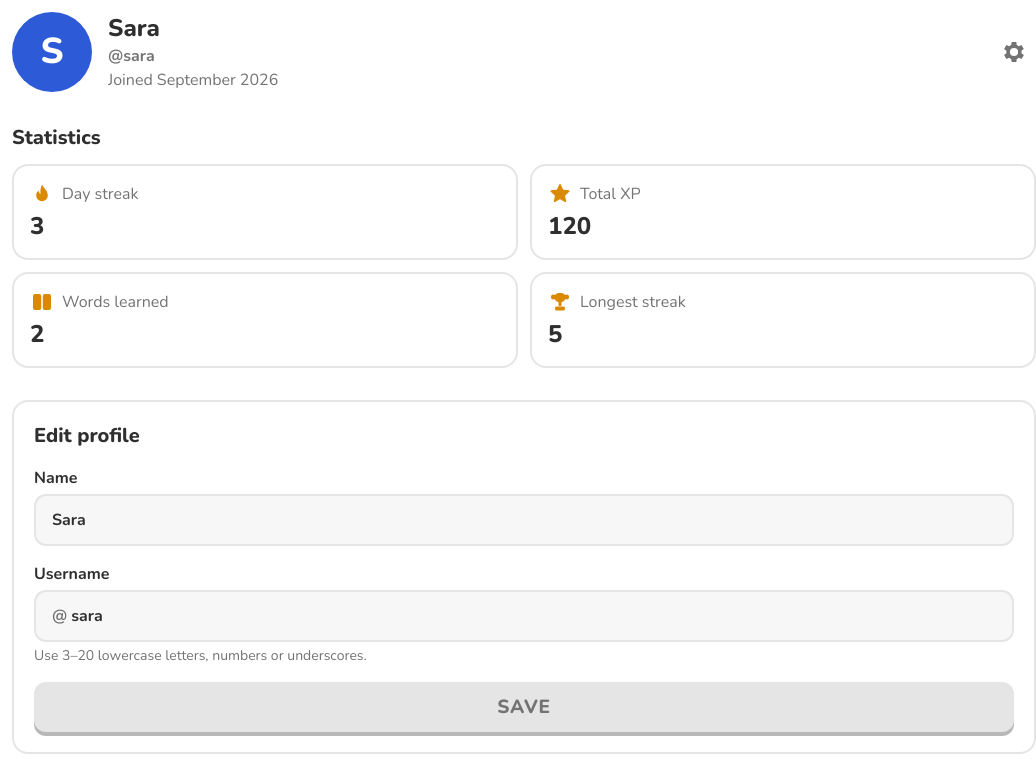
it: ProfileScreen › saves a new username and refreshes home
Step 1. Replace the text in the field labelled "Username" with "Sara_Fa" → coordinates (540, 616), box [67,592,1012,640]
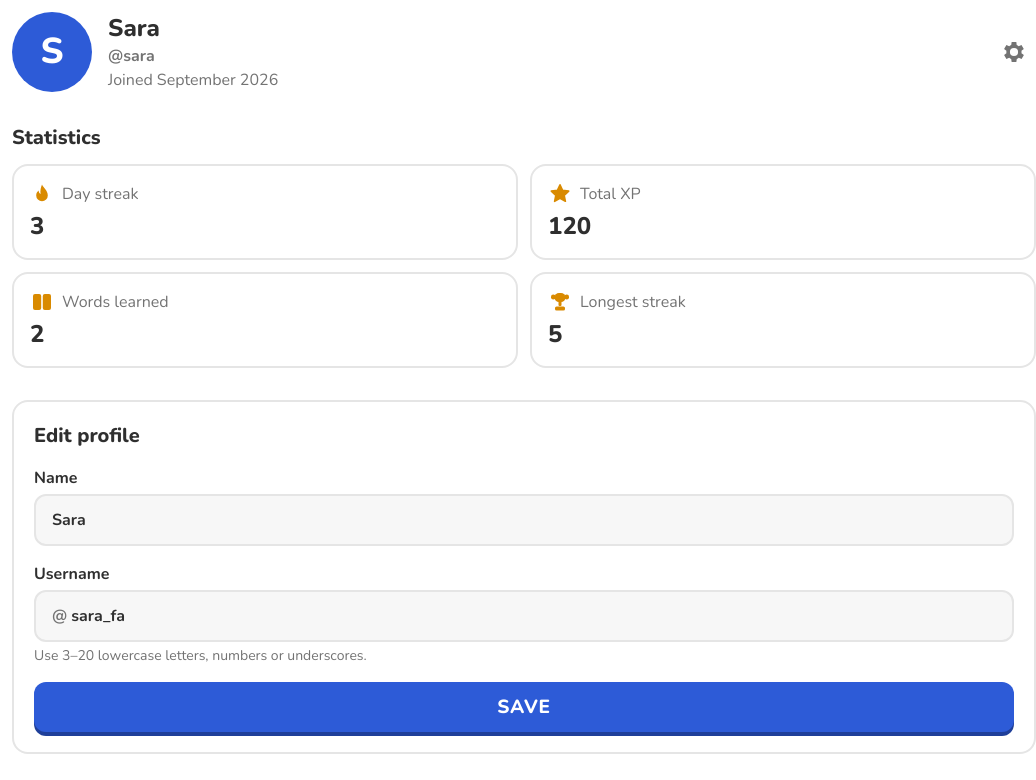
Step 2. Click the button "Save" → coordinates (524, 707), box [34,682,1014,732]
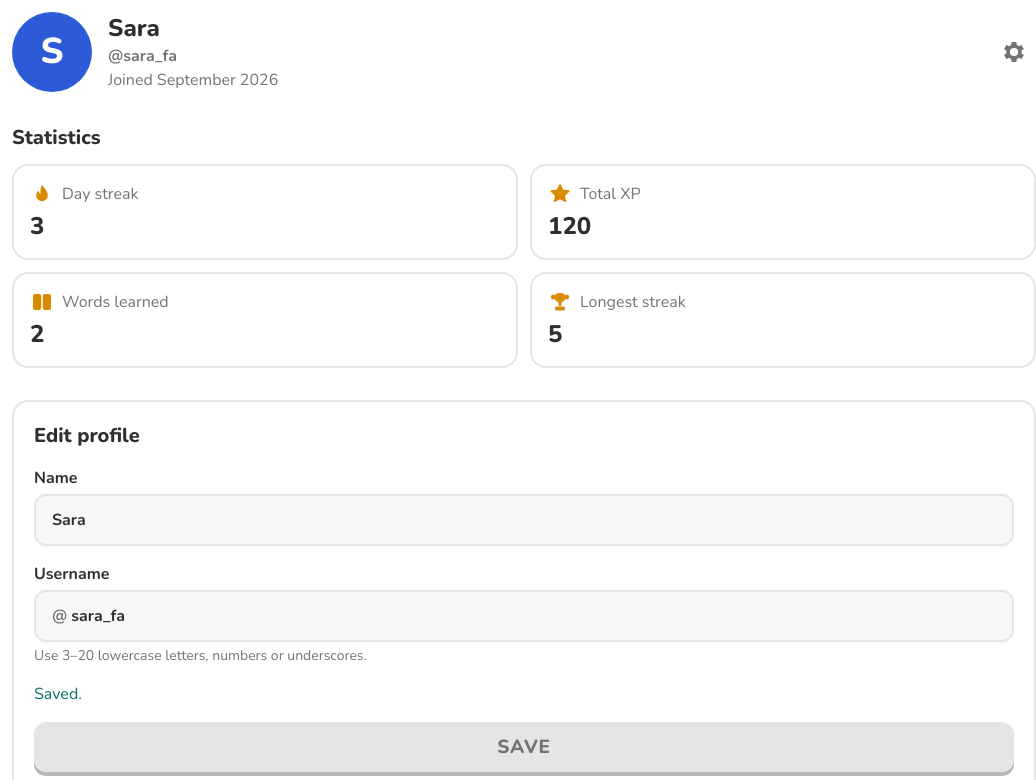
Check: the message reads "Saved.", box [34,683,82,705]
Check: the text "@sara_fa" is shown, box [108,45,177,67]
